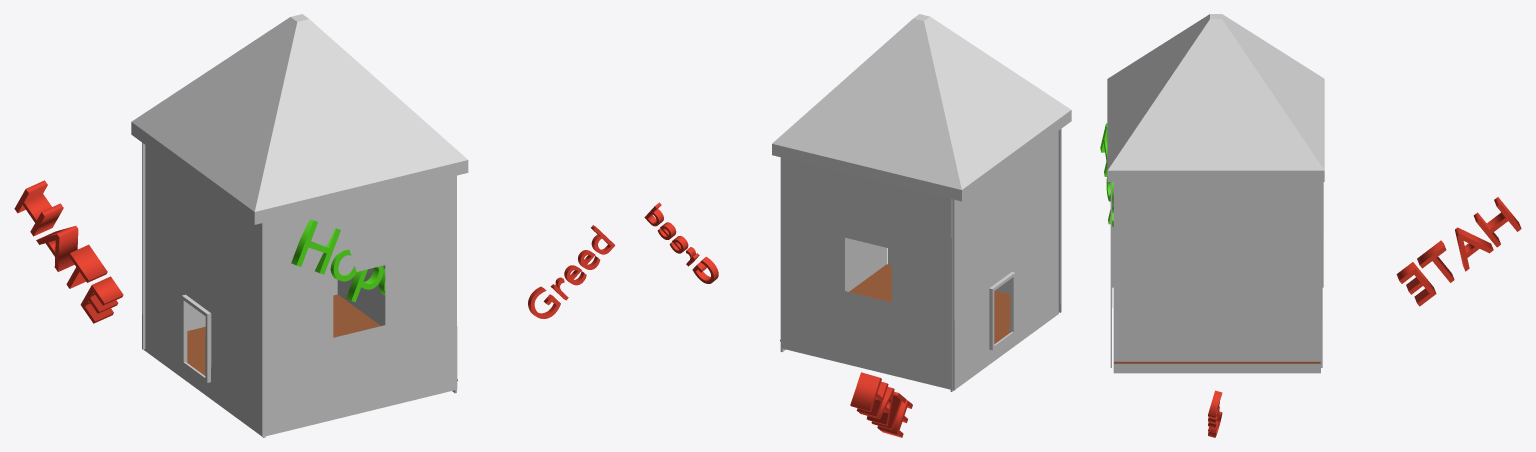
File: housewip3.glb
The picture shows the model from 3 angles, left to right: view 1: azimuth 30°, elevation 25°; view 2: azimuth 150°, elevation 25°; view 3: azimuth 270°, elevation 25°; orthographic projection. The views are drawn at different scales.
Visible parts, largest first — view 1: Plane, wall 1.001, wall 4, Text.001, Text.002, floor, Text, wall 1, wall 3; view 2: Plane, wall 1, wall 4, Text.001, wall 3, floor, Text, wall 1.001; view 3: wall 3, Plane, Text.001, floor, wall 1.001, Text, Text.002.
Part boxes in pixels (box(x1,y1,x2,y2)): Plane: box(131, 14, 468, 224); wall 1.001: box(261, 175, 457, 436); wall 4: box(143, 145, 265, 437); Text.001: box(14, 180, 123, 323); Text.002: box(291, 219, 385, 302); floor: box(187, 294, 457, 380); Text: box(528, 225, 615, 318); wall 1: box(142, 142, 337, 349); wall 3: box(337, 265, 456, 393); Plane: box(772, 14, 1071, 201); wall 1: box(781, 157, 955, 390); wall 4: box(950, 131, 1058, 391); Text.001: box(850, 372, 912, 437); wall 3: box(780, 157, 886, 351); floor: box(780, 264, 1010, 343); Text: box(644, 202, 718, 283); wall 1.001: box(887, 129, 1061, 312); wall 3: box(1113, 182, 1320, 373); Plane: box(1107, 14, 1324, 181); Text.001: box(1396, 197, 1521, 306); floor: box(1114, 361, 1320, 363); wall 1.001: box(1110, 182, 1112, 367); Text: box(1208, 390, 1222, 437); Text.002: box(1100, 123, 1113, 226).
Size of the model in its own units: 35.37 by 29.08 by 34.36.
